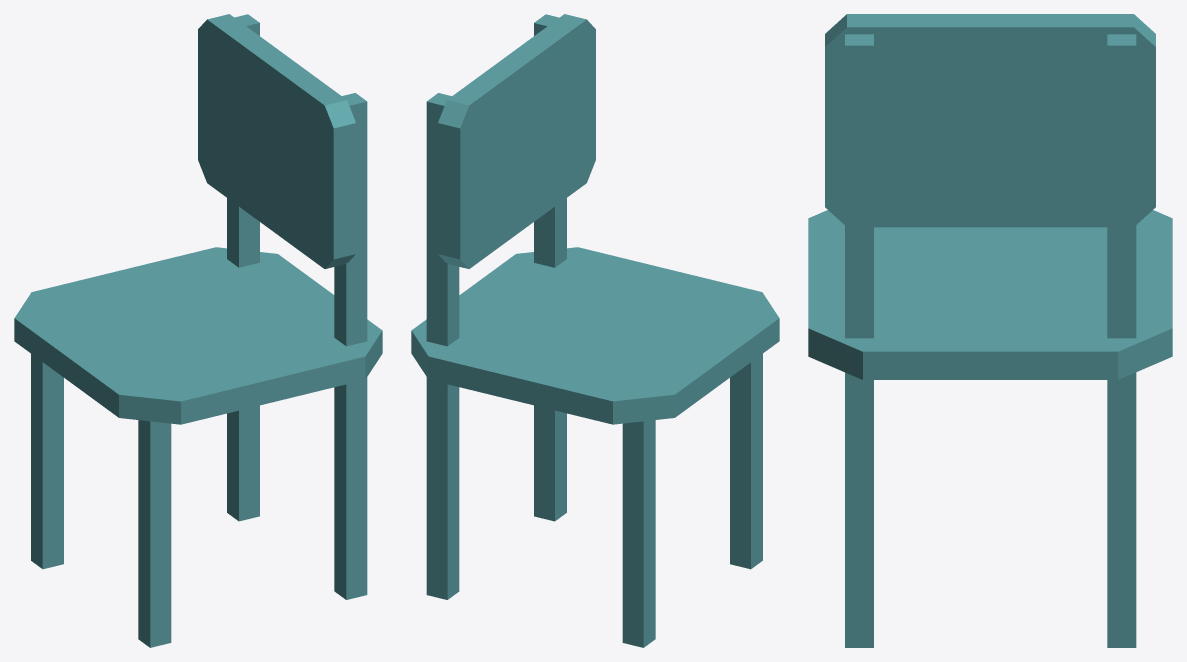
File: isu.fbx
The picture shows the model from 3 angles, left to right: view 1: azimuth 30°, elevation 25°; view 2: azimuth 150°, elevation 25°; view 3: azimuth 270°, elevation 25°; orthographic projection. The views are drawn at different scales.
Visible parts, largest first — view 1: pCube4, pCube13, pCube8, pCube9, pCube5, pCube11, pCube10, pCube12; view 2: pCube4, pCube13, pCube5, pCube10, pCube8, pCube12, pCube9, pCube11; view 3: pCube13, pCube4, pCube12, pCube11, pCube10, pCube9.
Boxes of the visible parts, x1,y1,x2,y2 form: pCube4: (14,247,382,424); pCube13: (198,14,355,268); pCube8: (138,420,171,647); pCube9: (334,377,367,599); pCube5: (31,354,63,569); pCube11: (334,93,367,346); pCube10: (227,405,259,521); pCube12: (227,14,259,267); pCube4: (411,247,779,424); pCube13: (438,14,595,268); pCube5: (622,420,655,647); pCube10: (426,377,459,599); pCube8: (730,354,762,569); pCube12: (426,93,459,346); pCube9: (534,405,566,521); pCube11: (534,14,566,267); pCube13: (825,14,1155,227); pCube4: (808,210,1172,379); pCube12: (1107,34,1136,338); pCube11: (845,34,873,338); pCube10: (1107,372,1136,647); pCube9: (845,372,873,647).
Size of the model in its own units: 0.464 by 0.8399 by 0.4557.
